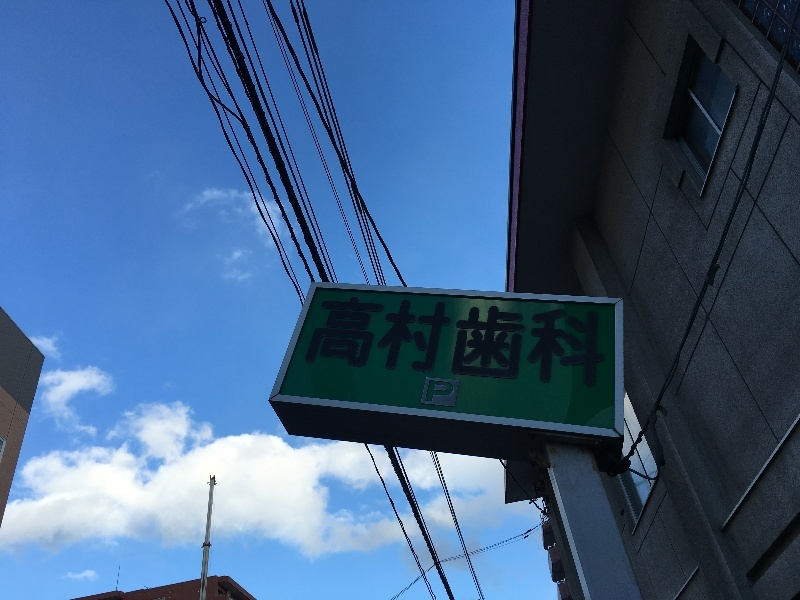text: (337, 295, 352, 389), (353, 295, 368, 389), (369, 295, 384, 389), (385, 295, 400, 389), (401, 295, 416, 389), (417, 295, 432, 389), (433, 295, 448, 389), (449, 295, 464, 389), (465, 295, 480, 389), (481, 295, 496, 389), (497, 295, 512, 389), (513, 295, 528, 389), (529, 295, 544, 389), (545, 295, 560, 389), (561, 295, 576, 389), (577, 295, 592, 389), (322, 295, 336, 389), (593, 295, 607, 389), (433, 380, 448, 404), (449, 380, 454, 404), (430, 380, 432, 404)
